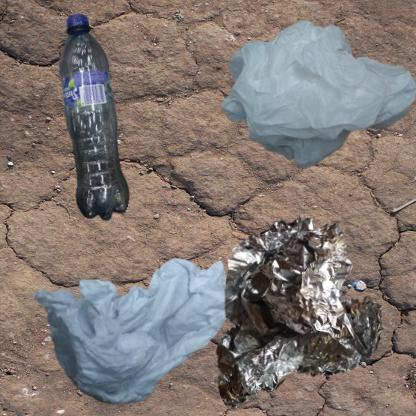aluminio: (213, 213, 385, 409)
bolsa: (213, 10, 416, 189)
botella: (10, 10, 203, 262)
papel: (10, 213, 256, 416)
